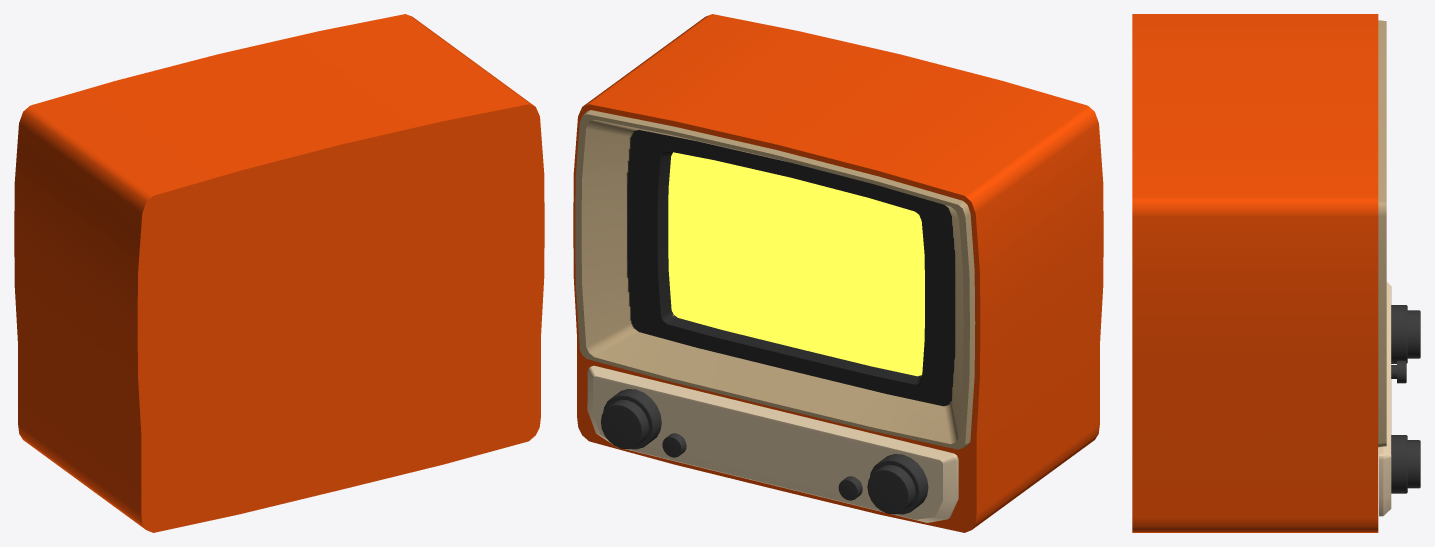
The model's file is TV(comp).fbx.
The picture shows the model from 3 angles, left to right: view 1: azimuth 30°, elevation 25°; view 2: azimuth 150°, elevation 25°; view 3: azimuth 270°, elevation 25°; orthographic projection.
Visible parts, largest first — view 1: tikuonnki_0019:polySurface33; view 2: tikuonnki_0019:polySurface33; view 3: tikuonnki_0019:polySurface33.
Boxes of the visible parts, bbox=[...] form: tikuonnki_0019:polySurface33: bbox=[14, 14, 544, 532]; tikuonnki_0019:polySurface33: bbox=[573, 14, 1103, 532]; tikuonnki_0019:polySurface33: bbox=[1132, 14, 1420, 532].
Bounding box in the file's own units: 3.42 × 2.77 × 2.1.
1 material, 1 textured.
